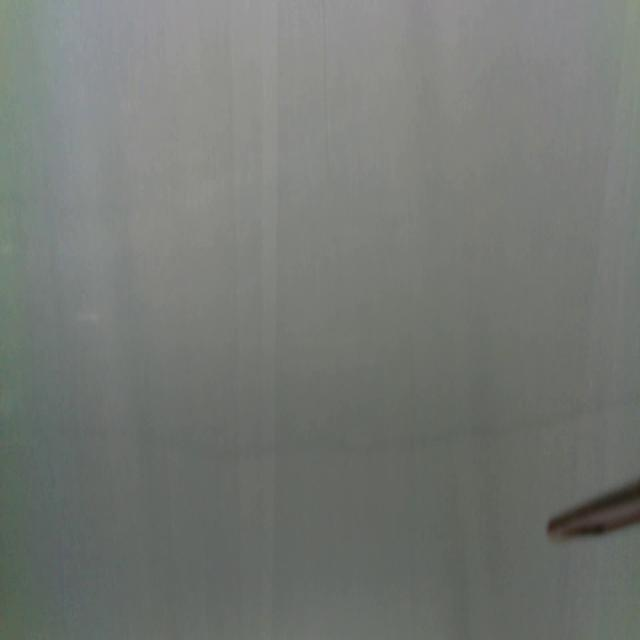color bleeding: (0, 386, 609, 473)
